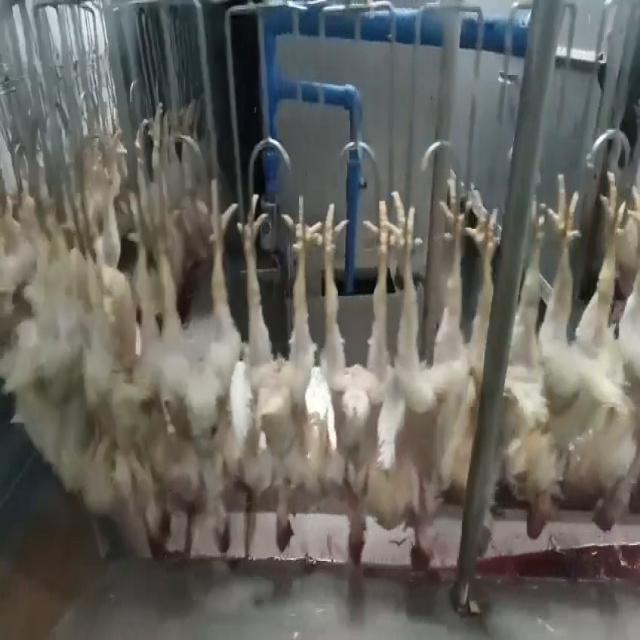chicken: (388, 160, 507, 586), (510, 167, 600, 549), (154, 174, 239, 551), (316, 180, 394, 572), (78, 170, 156, 549), (241, 192, 322, 556), (592, 168, 640, 549)
